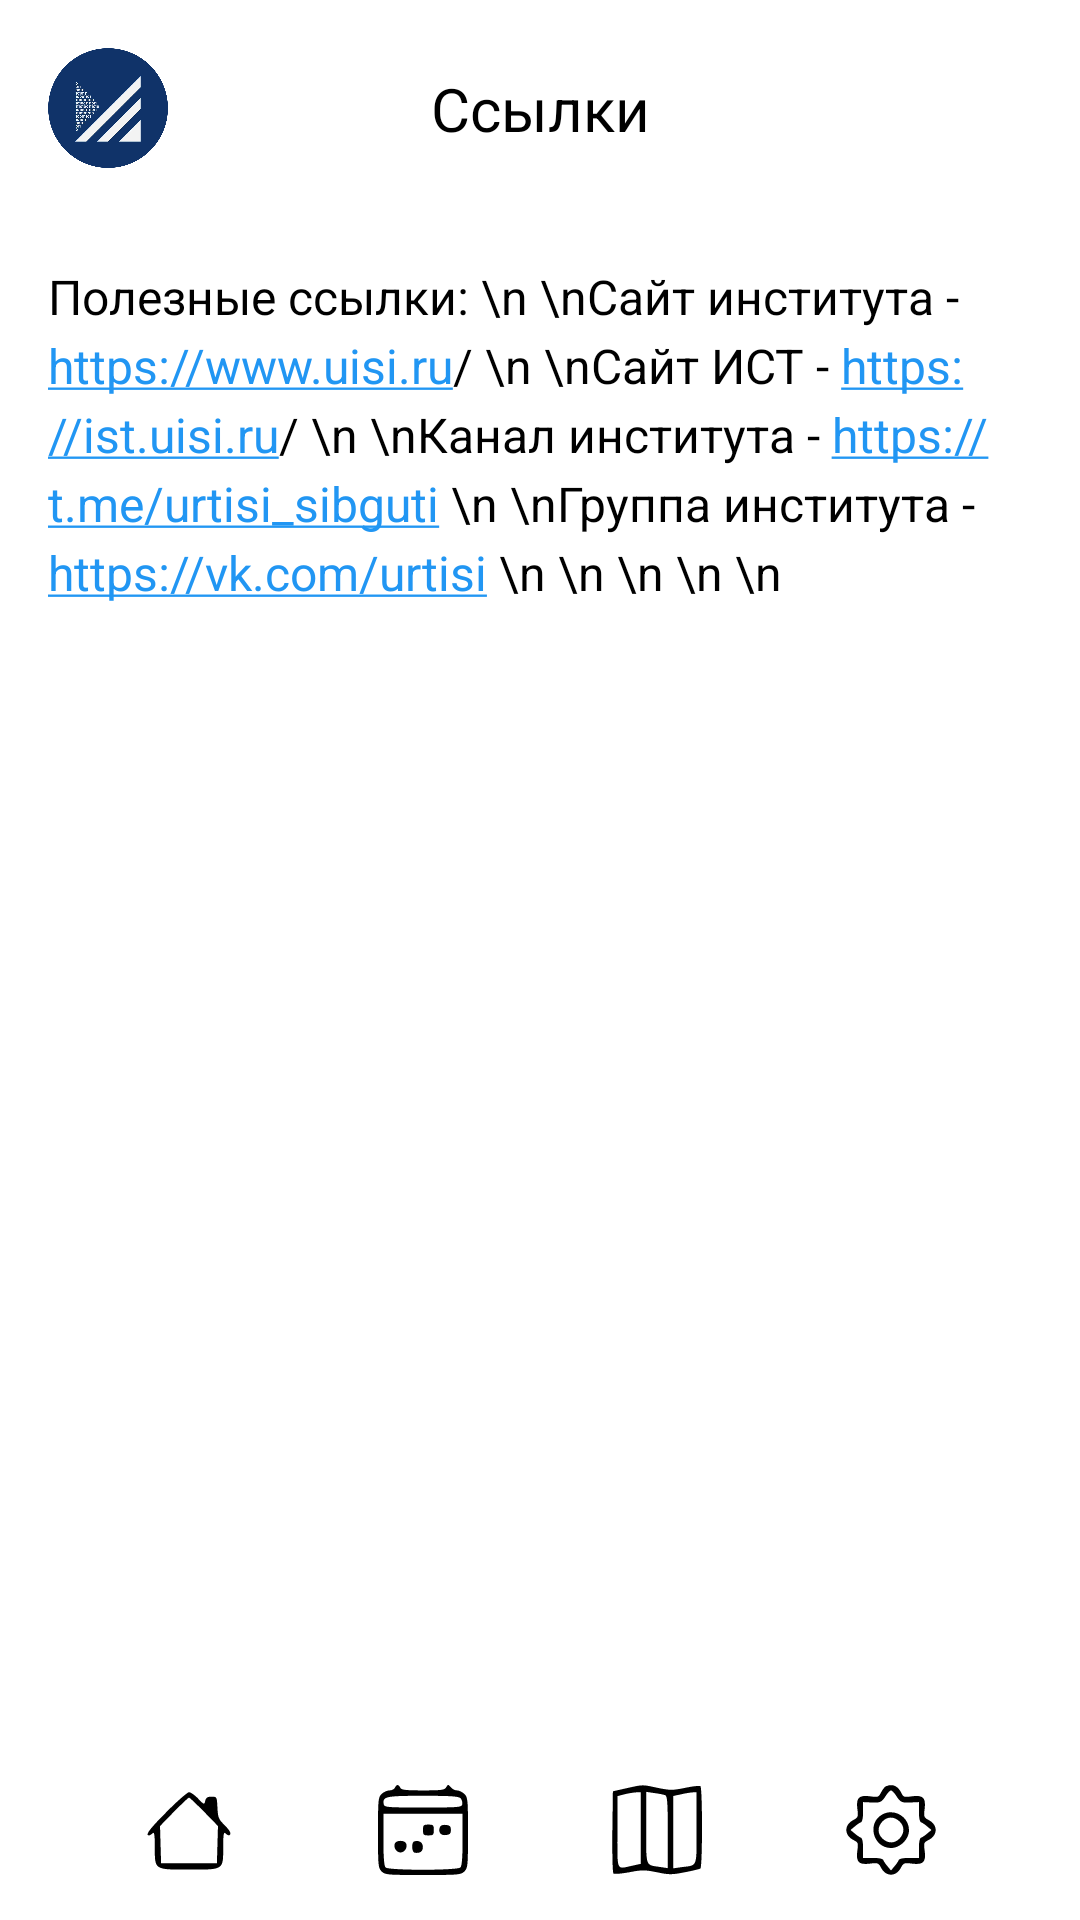

Named icons in this screenshot (1080×1920) and their bounding boxes, (left=x1, top=y1, right=x2, bottom=y2):
calendar: (left=378, top=1785, right=468, bottom=1875)
home: (left=147, top=1792, right=231, bottom=1870)
map: (left=612, top=1785, right=702, bottom=1875)
settings: (left=846, top=1785, right=936, bottom=1875)
